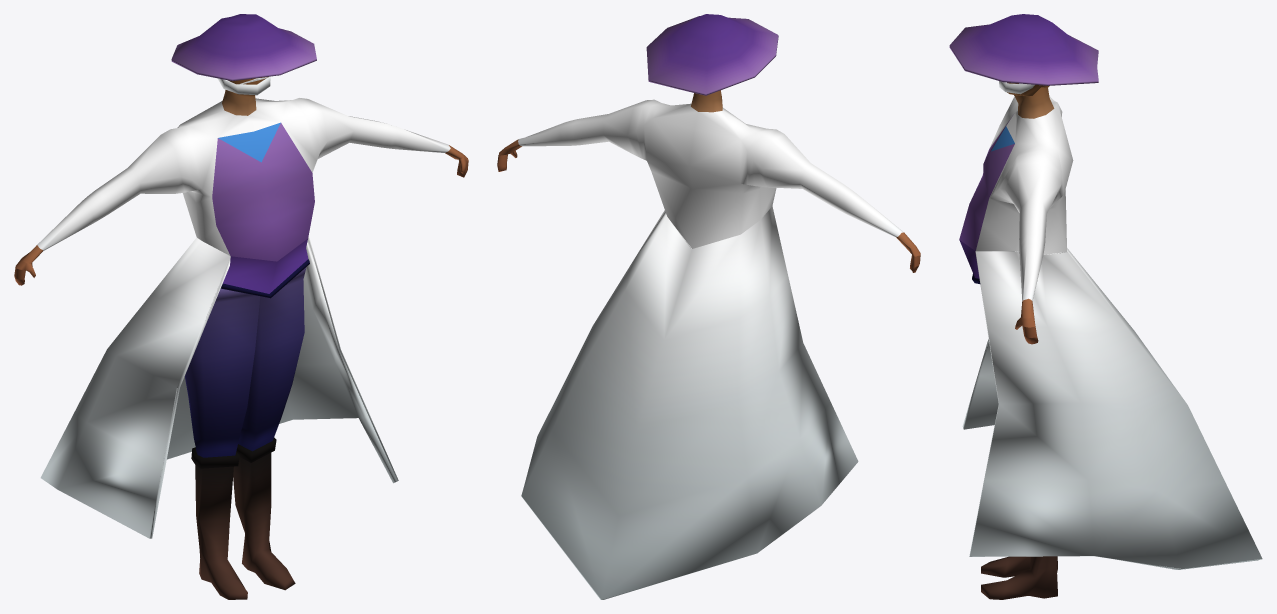
The model's file is Scientist.fbx.
3 renders of one model, left to right at view 1: azimuth 30°, elevation 25°; view 2: azimuth 150°, elevation 25°; view 3: azimuth 270°, elevation 25°, orthographic. The views are drawn at different scales.
Visible parts, largest first — view 1: Scientist.001; view 2: Scientist.001; view 3: Scientist.001.
Boxes of the visible parts, x1=… form: Scientist.001: x1=14, y1=14, x2=468, y2=599; Scientist.001: x1=497, y1=14, x2=920, y2=599; Scientist.001: x1=949, y1=14, x2=1262, y2=599.
Size of the model in its own units: 277 by 327 by 165.
